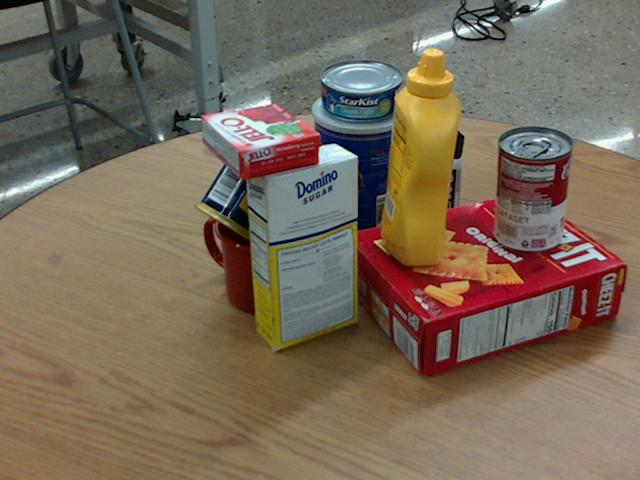cracker_box: (347, 189, 624, 377)
gelatin_box: (201, 101, 319, 179)
large_marker: (440, 131, 462, 235)
master_chef_can: (314, 86, 412, 243)
mug: (203, 197, 307, 311)
mustard_bottle: (381, 47, 460, 265)
potted_meat_can: (194, 131, 322, 259)
sugar_box: (244, 143, 357, 349)
tomato_soup_can: (493, 125, 572, 252)
tuna_fish_can: (321, 59, 403, 120)
